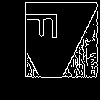F: (25, 9, 65, 41)
